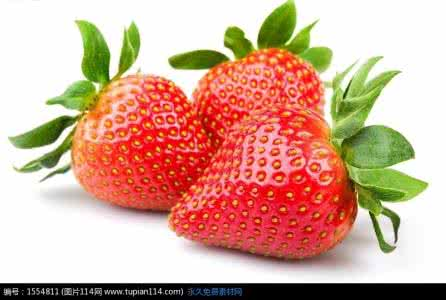strawberry: (171, 115, 405, 261), (45, 53, 203, 210), (188, 35, 345, 146)
